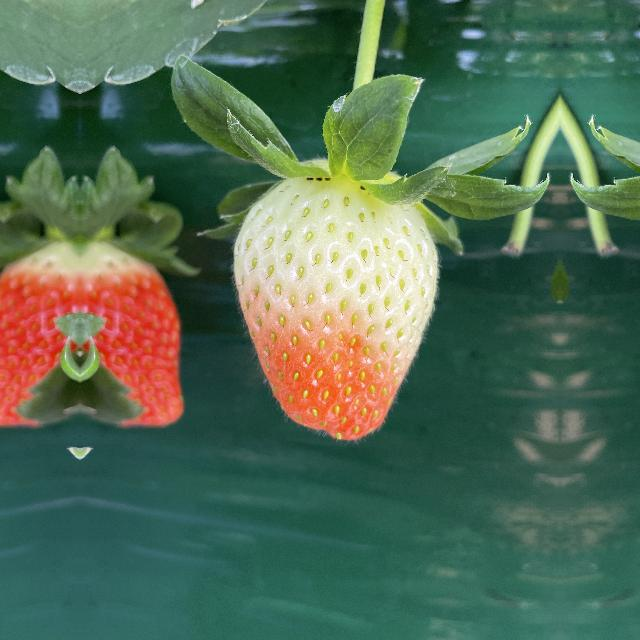Health_100: (80, 242, 188, 432), (0, 241, 80, 432)
Health_50: (224, 159, 443, 453)
